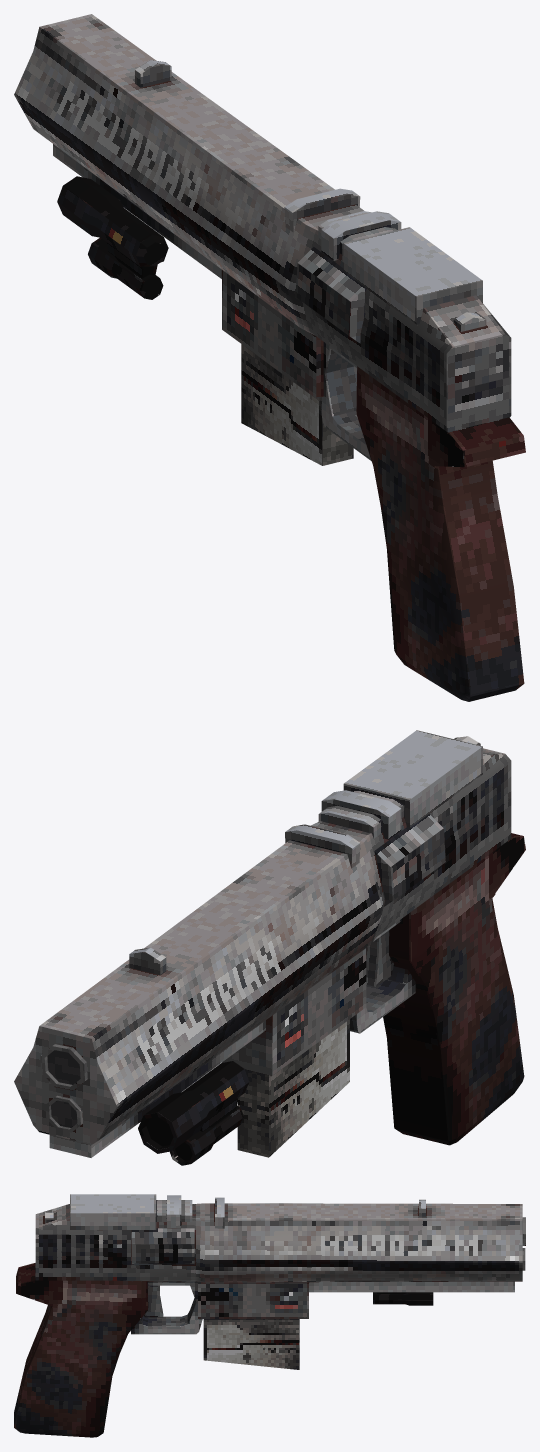
Rendered from malorian.glb.
The picture shows the model from 3 angles, top to bottom: view 1: azimuth 30°, elevation 25°; view 2: azimuth 150°, elevation 25°; view 3: azimuth 270°, elevation 25°; orthographic projection. The views are drawn at different scales.
Visible parts, largest first — view 1: Malorian, Malorian.001; view 2: Malorian, Malorian.001; view 3: Malorian, Malorian.001.
Boxes of the visible parts, left/top/right/bottom form: Malorian: left=14, top=14, right=525, bottom=701; Malorian.001: left=241, top=344, right=353, bottom=465; Malorian: left=14, top=730, right=525, bottom=1165; Malorian.001: left=237, top=1019, right=349, bottom=1157; Malorian: left=14, top=1194, right=525, bottom=1437; Malorian.001: left=203, top=1319, right=299, bottom=1369.
Bounding box in the file's own units: 0.1859 × 0.6221 × 1.25.
2 materials, 2 textured.
